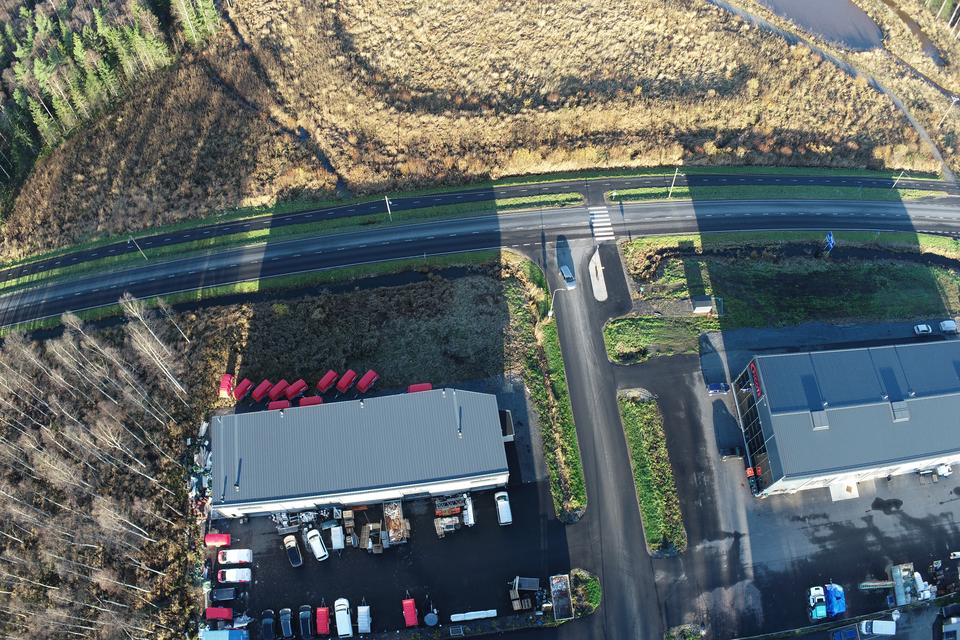intersection: (491, 150, 652, 338), (925, 144, 960, 251)
